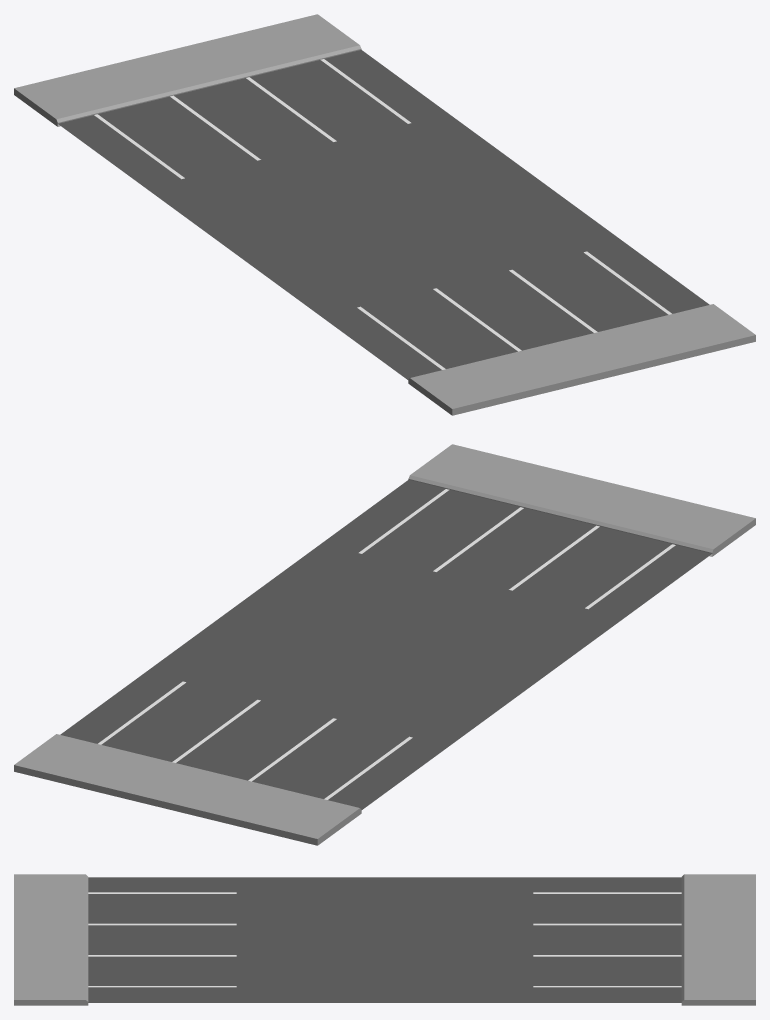
The model's file is roadParking.fbx.
3 views of the same model, one above another, from view 1: azimuth 30°, elevation 25°; view 2: azimuth 150°, elevation 25°; view 3: azimuth 270°, elevation 25° (orthographic). The views are drawn at different scales.
Visible parts, largest first — view 1: RoadParking; view 2: RoadParking; view 3: RoadParking.
Boxes of the visible parts, x1,y1,x2,y2 form: RoadParking: (14,14,755,415); RoadParking: (14,444,755,845); RoadParking: (14,874,755,1005).
Bounding box in the file's own units: 2000 × 42.29 × 5000.
